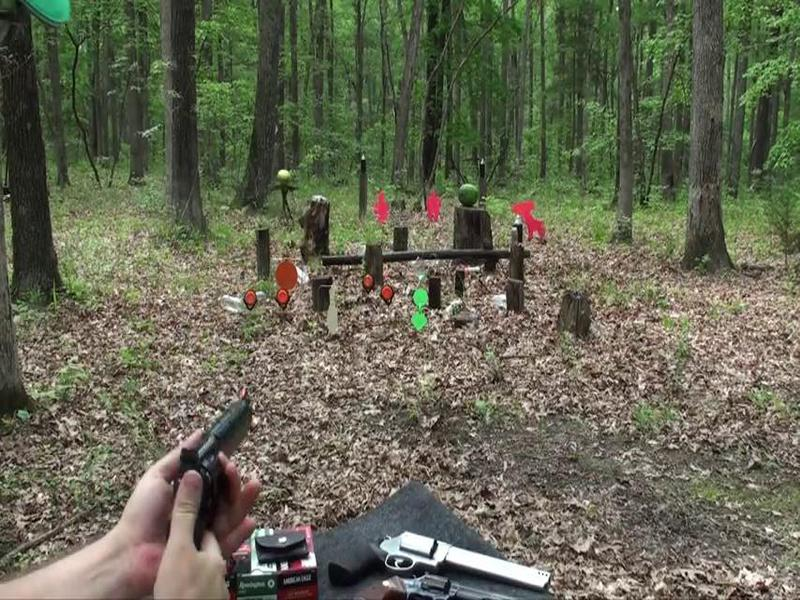Revolver: (133, 379, 280, 568)
